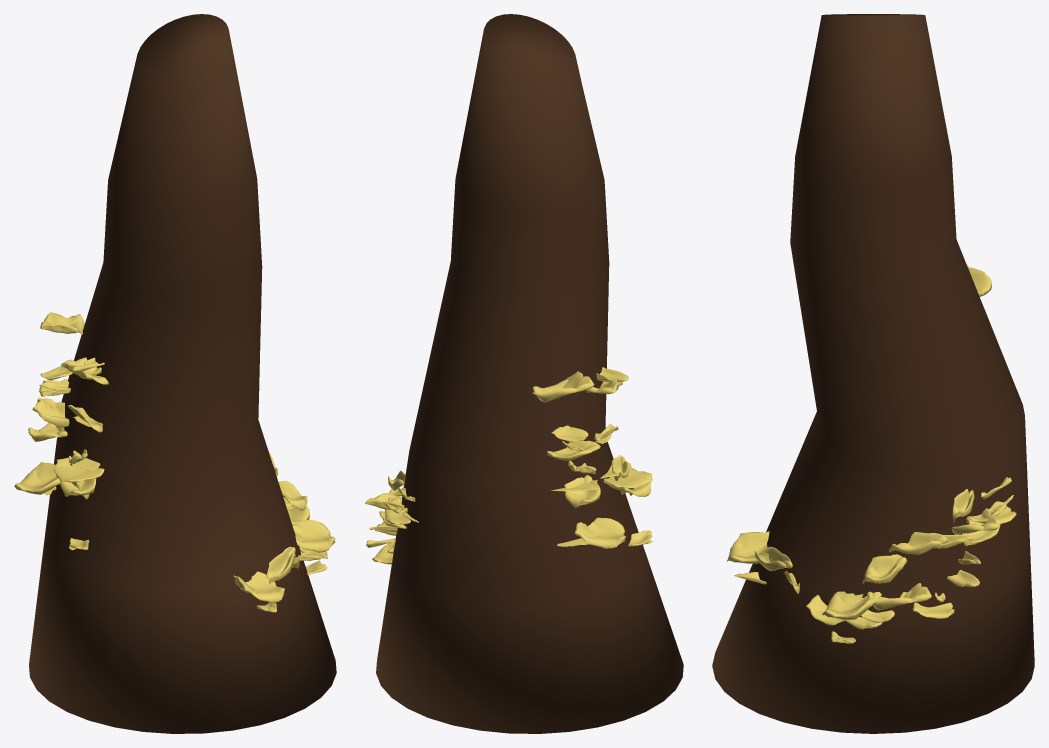
File: FungiGenHighPolyExample.fbx
3 views of the same model, side by side, from view 1: azimuth 30°, elevation 25°; view 2: azimuth 150°, elevation 25°; view 3: azimuth 270°, elevation 25° (orthographic). The views are drawn at different scales.
Parts seen in each view (by area): view 1: Cylinder, FungiGen; view 2: Cylinder, FungiGen; view 3: Cylinder, FungiGen.
Boxes of the visible parts, left/top/right/bottom form: Cylinder: left=29, top=14, right=336, bottom=733; FungiGen: left=14, top=312, right=335, bottom=612; Cylinder: left=376, top=14, right=683, bottom=733; FungiGen: left=365, top=367, right=652, bottom=564; Cylinder: left=712, top=14, right=1034, bottom=733; FungiGen: left=727, top=264, right=1016, bottom=643.
Size of the model in its own units: 278 by 633 by 276.
